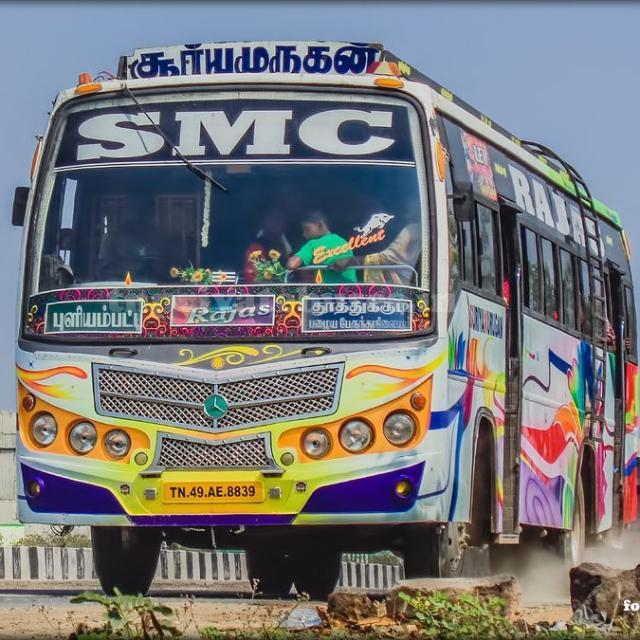Bus: (2, 38, 640, 596)
